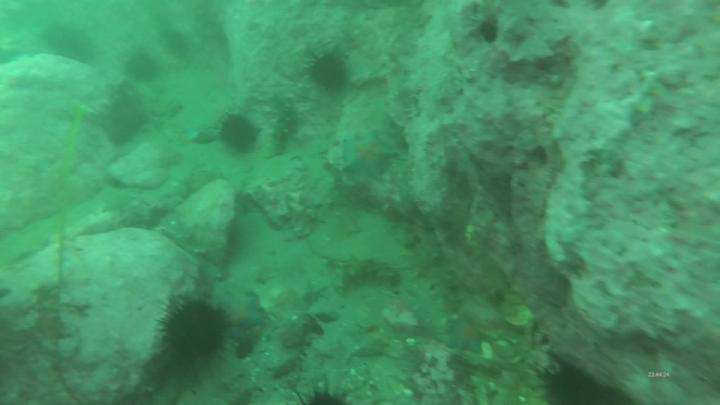echinus: (152, 294, 237, 365), (535, 361, 604, 405), (100, 101, 153, 146), (215, 110, 262, 158), (44, 27, 100, 67), (305, 51, 350, 94), (288, 382, 358, 405), (124, 52, 161, 84), (163, 28, 193, 61)
holothurian: (341, 253, 405, 294), (268, 93, 297, 158)
starfish: (338, 129, 402, 186), (216, 291, 269, 340)
